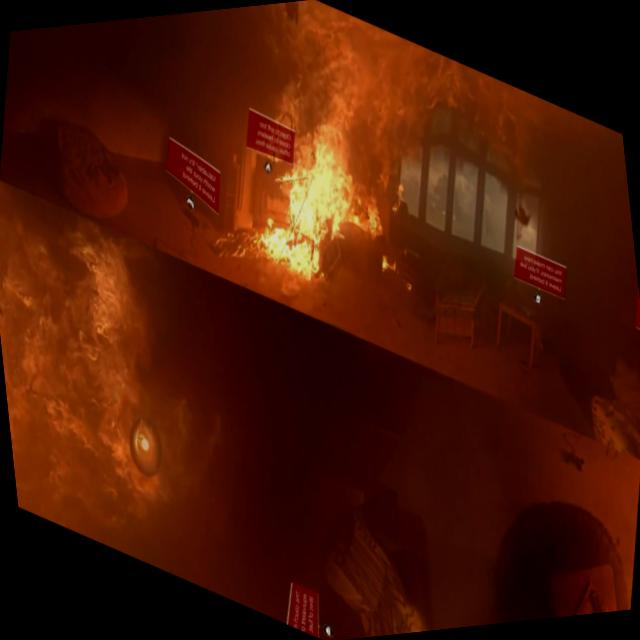fire: (221, 0, 473, 347)
